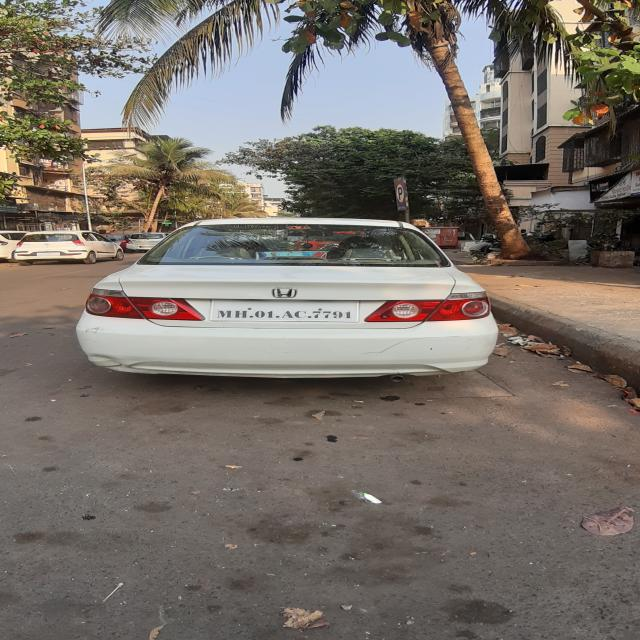Number-Plate: (212, 300, 358, 322)
